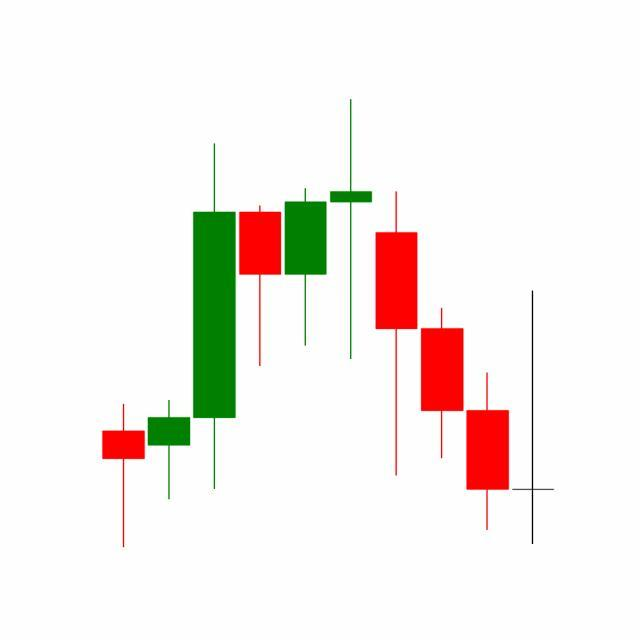Hikkake Pattern: (283, 100, 512, 536)
